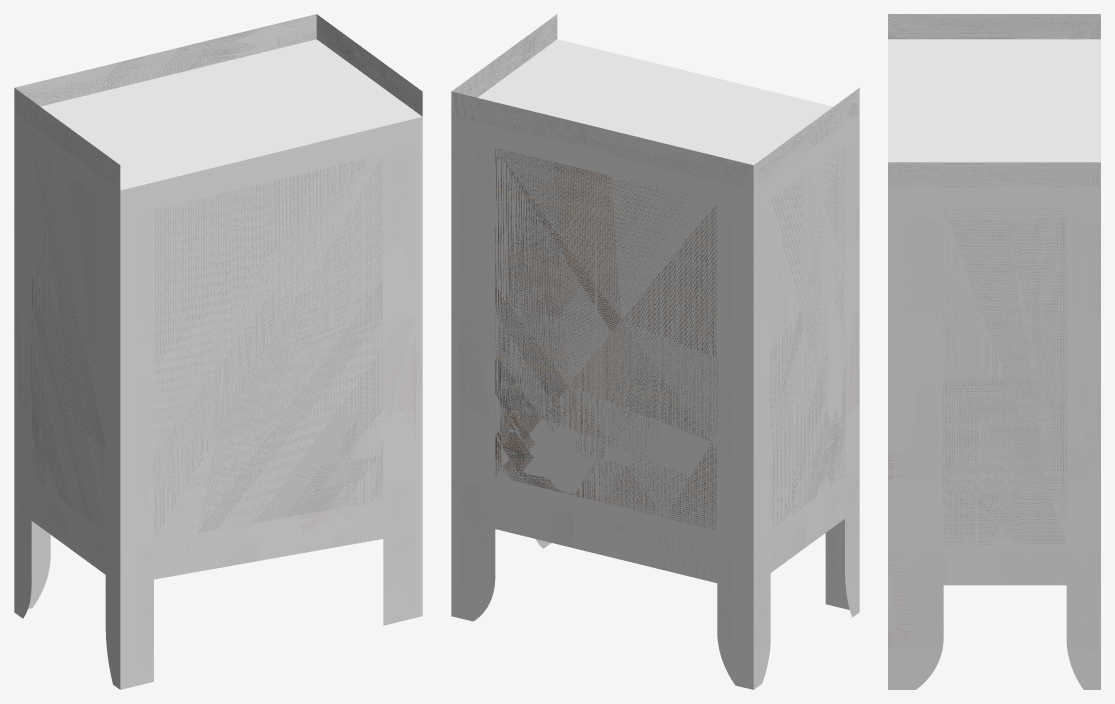
The picture shows the model from 3 angles, left to right: view 1: azimuth 30°, elevation 25°; view 2: azimuth 150°, elevation 25°; view 3: azimuth 270°, elevation 25°; orthographic projection.
Parts seen in each view (by area): view 1: mesh1_mesh1-geometry; view 2: mesh1_mesh1-geometry; view 3: mesh1_mesh1-geometry.
Part boxes in pixels (bbox=[...]): mesh1_mesh1-geometry: bbox=[14, 14, 422, 689]; mesh1_mesh1-geometry: bbox=[451, 14, 859, 689]; mesh1_mesh1-geometry: bbox=[888, 14, 1100, 689].
Size of the model in its own units: 0.4927 by 0.8173 by 0.2989.
